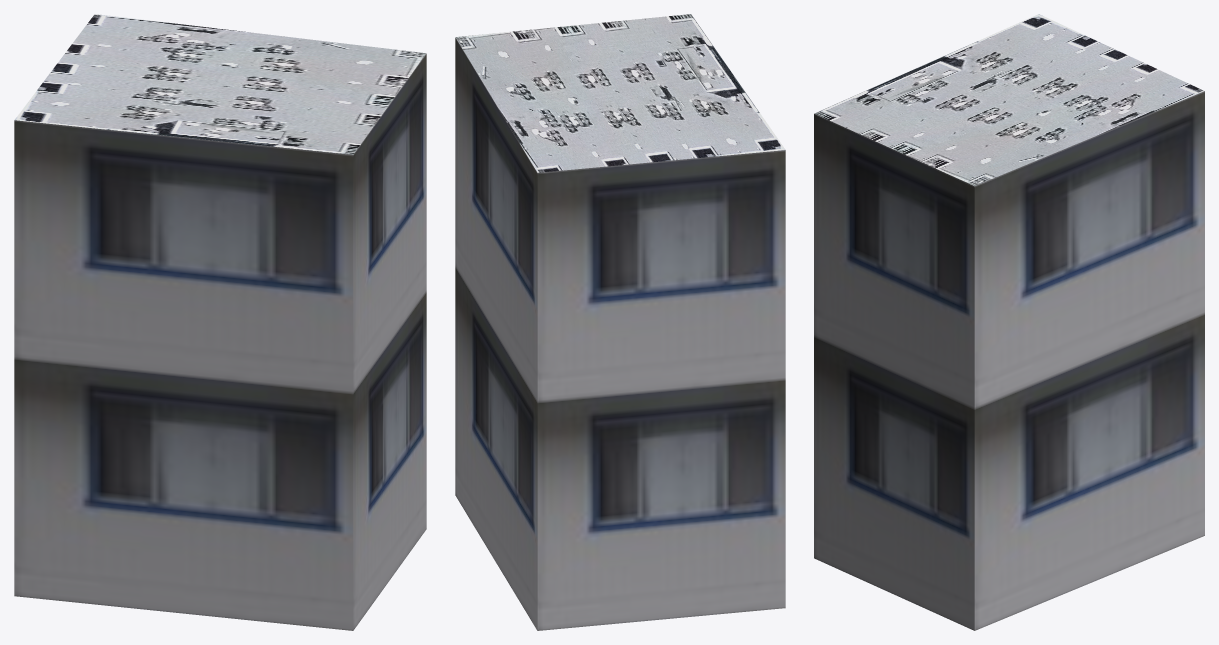
File: ResTex__1645.fbx
3 views of the same model, side by side, from view 1: azimuth 30°, elevation 25°; view 2: azimuth 150°, elevation 25°; view 3: azimuth 270°, elevation 25° (orthographic). The views are drawn at different scales.
Visible parts, largest first — view 1: CityEngineMaterial_9_m, CityEngineMaterial_m; view 2: CityEngineMaterial_9_m, CityEngineMaterial_m; view 3: CityEngineMaterial_9_m, CityEngineMaterial_m.
Part boxes in pixels (left/top/right/bottom): CityEngineMaterial_9_m: left=14, top=53, right=426, bottom=630; CityEngineMaterial_m: left=14, top=14, right=426, bottom=154; CityEngineMaterial_9_m: left=455, top=38, right=785, bottom=630; CityEngineMaterial_m: left=455, top=14, right=785, bottom=172; CityEngineMaterial_9_m: left=814, top=91, right=1204, bottom=630; CityEngineMaterial_m: left=814, top=14, right=1204, bottom=186.
Bounding box in the file's own units: 4.98 × 6 × 4.78.
2 materials, 2 textured.
